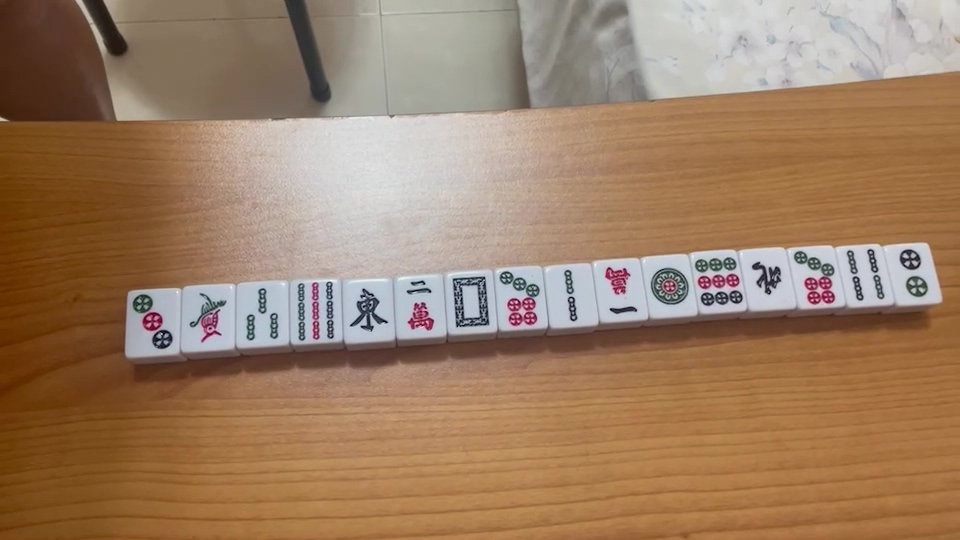b-1: (186, 290, 228, 343)
b-2: (561, 268, 585, 323)
b-3: (243, 287, 281, 342)
b-4: (840, 246, 886, 304)
b-9: (295, 279, 339, 341)
c-1: (599, 265, 642, 317)
c-2: (404, 279, 440, 332)
d-1: (649, 264, 690, 310)
d-2: (894, 248, 933, 304)
d-3: (132, 294, 176, 353)
d-7: (498, 269, 544, 328), (794, 250, 836, 305)
d-9: (693, 256, 745, 308)
honors-east: (346, 285, 389, 335)
honors-north: (745, 258, 784, 296)
honors-white: (450, 274, 489, 330)
